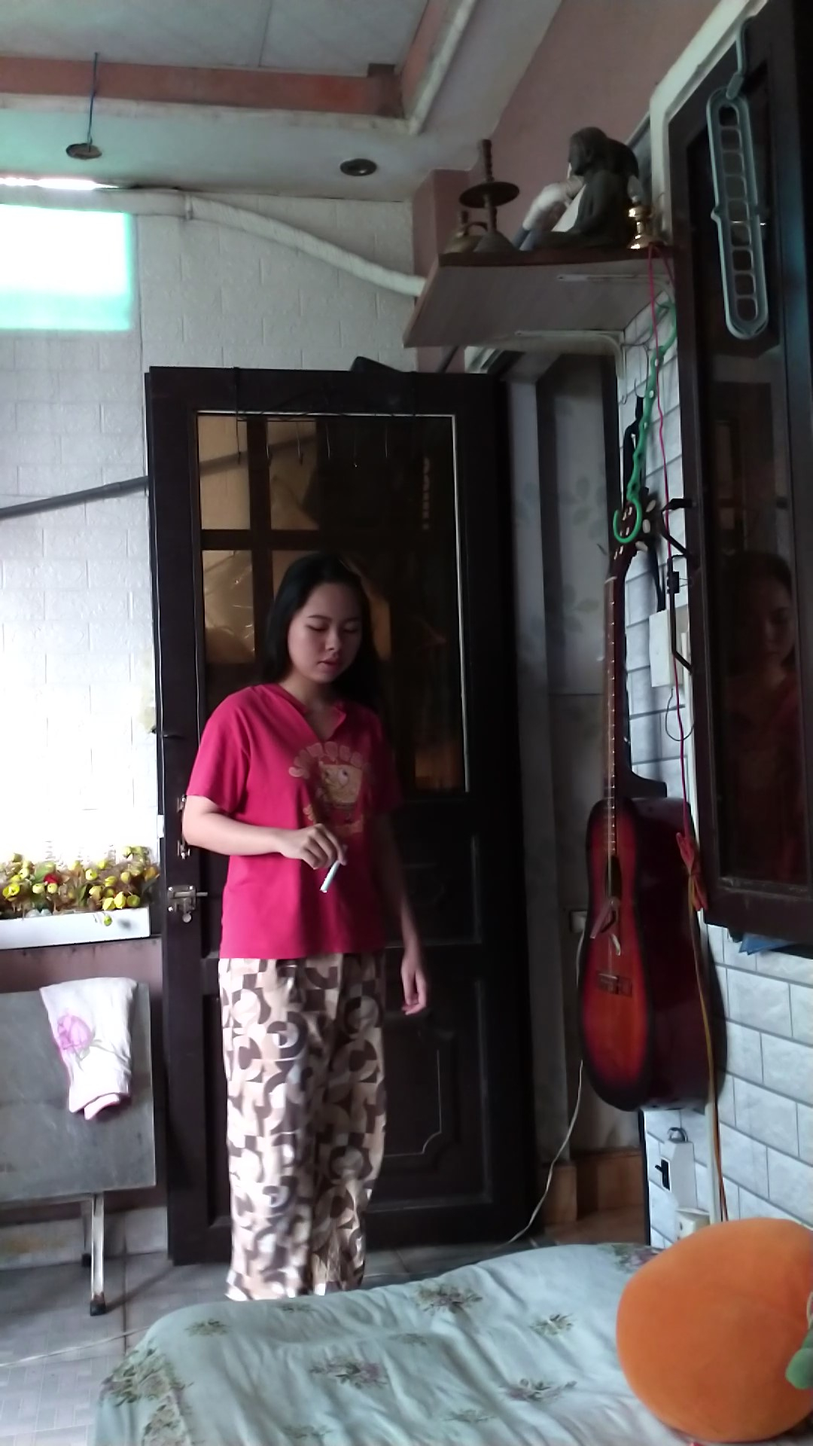cigarette: (318, 860, 343, 898)
person: (179, 519, 432, 1332)
